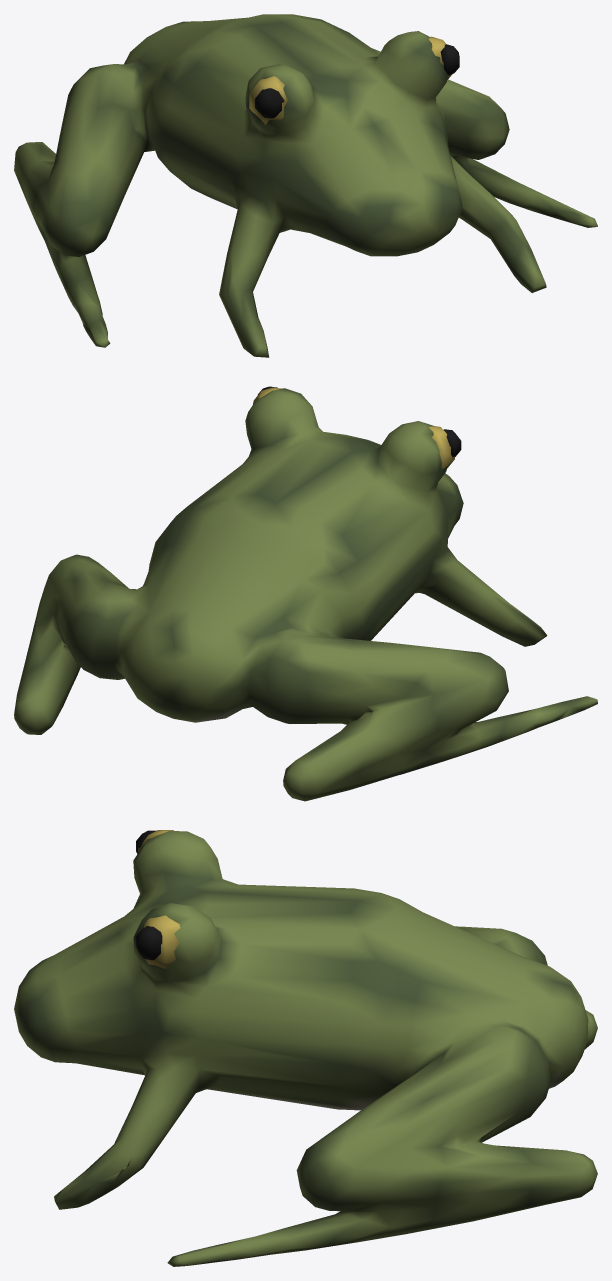
File: frosch.glb
3 views of the same model, one above another, from view 1: azimuth 30°, elevation 25°; view 2: azimuth 150°, elevation 25°; view 3: azimuth 270°, elevation 25° (orthographic). The views are drawn at different scales.
Visible parts, largest first — view 1: lack; view 2: lack; view 3: lack.
Boxes of the visible parts, left/top/right/bottom form: lack: left=14, top=14, right=597, bottom=357; lack: left=14, top=386, right=597, bottom=801; lack: left=14, top=830, right=597, bottom=1266.
Bounding box in the file's own units: 0.1227 × 0.0552 × 0.1115.
